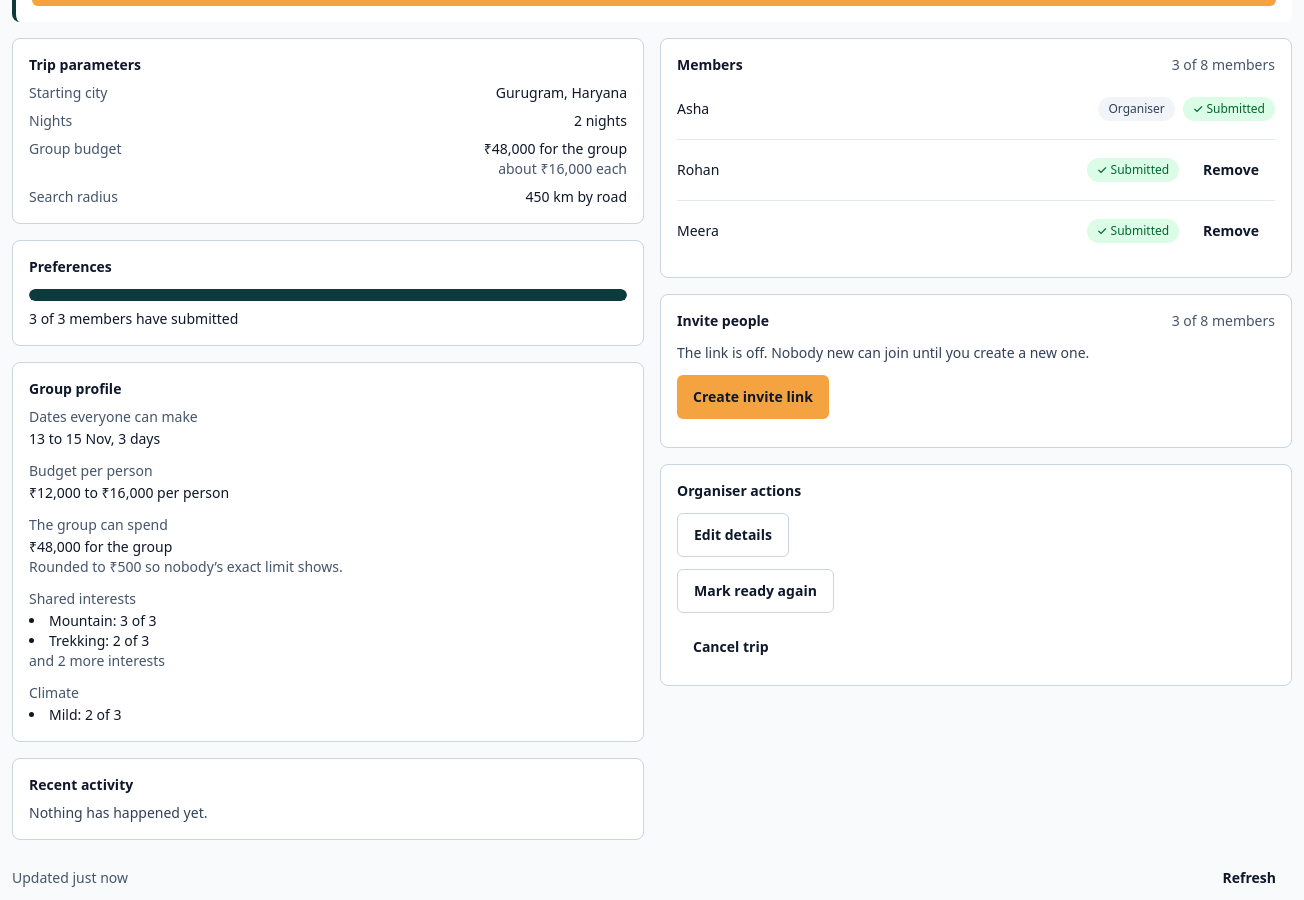
Test case: dashboard: recommendations › after a diagnostic: what the last round found, a link to why, and Mark ready again
(page scrolled)
Note: Nobody is pending, so the confirm offers "Not now" rather than "Keep waiting".
Click the button "Mark ready again".
click(755, 591)  # box [677, 569, 834, 613]
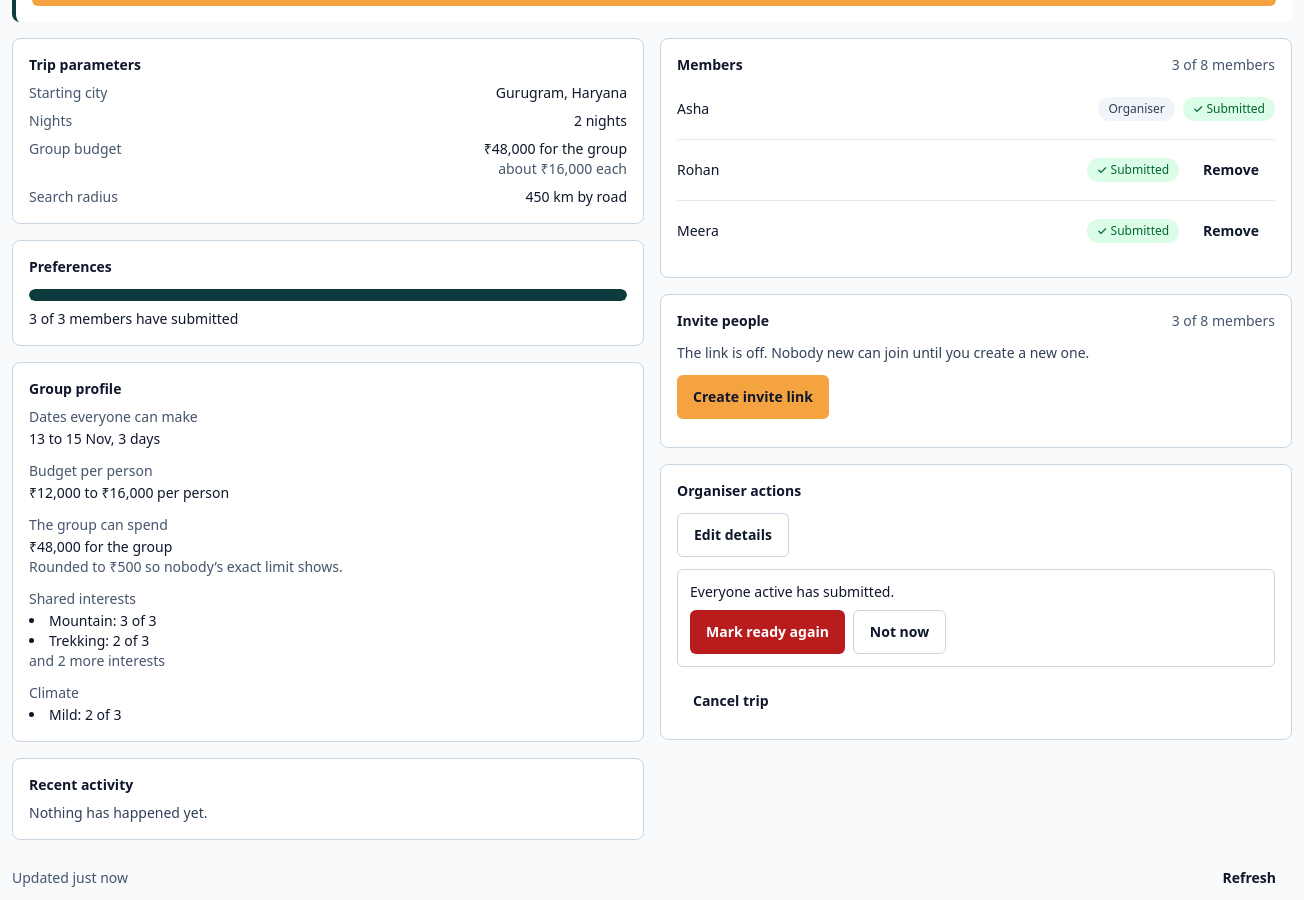
Check: the text "Everyone active has submitted." is shown, box [690, 582, 894, 601]
Check: the button "Not now" is shown, box [853, 610, 946, 654]
